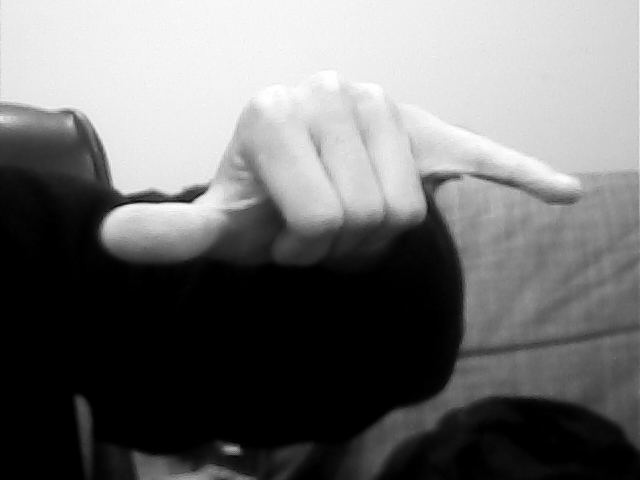aloha: (96, 67, 586, 280)
